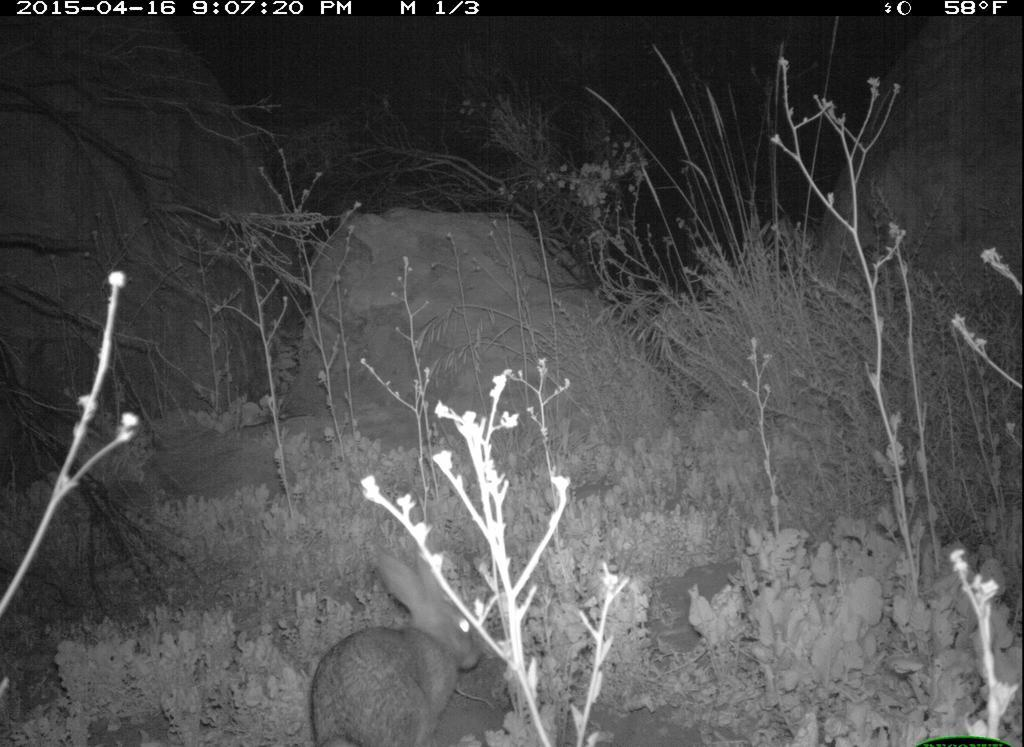rabbit: (310, 553, 488, 745)
